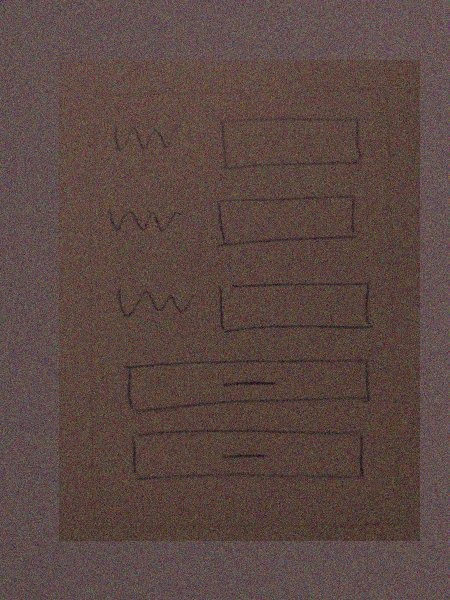button: (117, 426, 376, 485), (113, 356, 380, 412)
text: (103, 281, 200, 322), (102, 198, 191, 238), (107, 119, 188, 153)
text_input: (212, 275, 383, 338), (207, 190, 363, 250), (212, 115, 376, 172)
